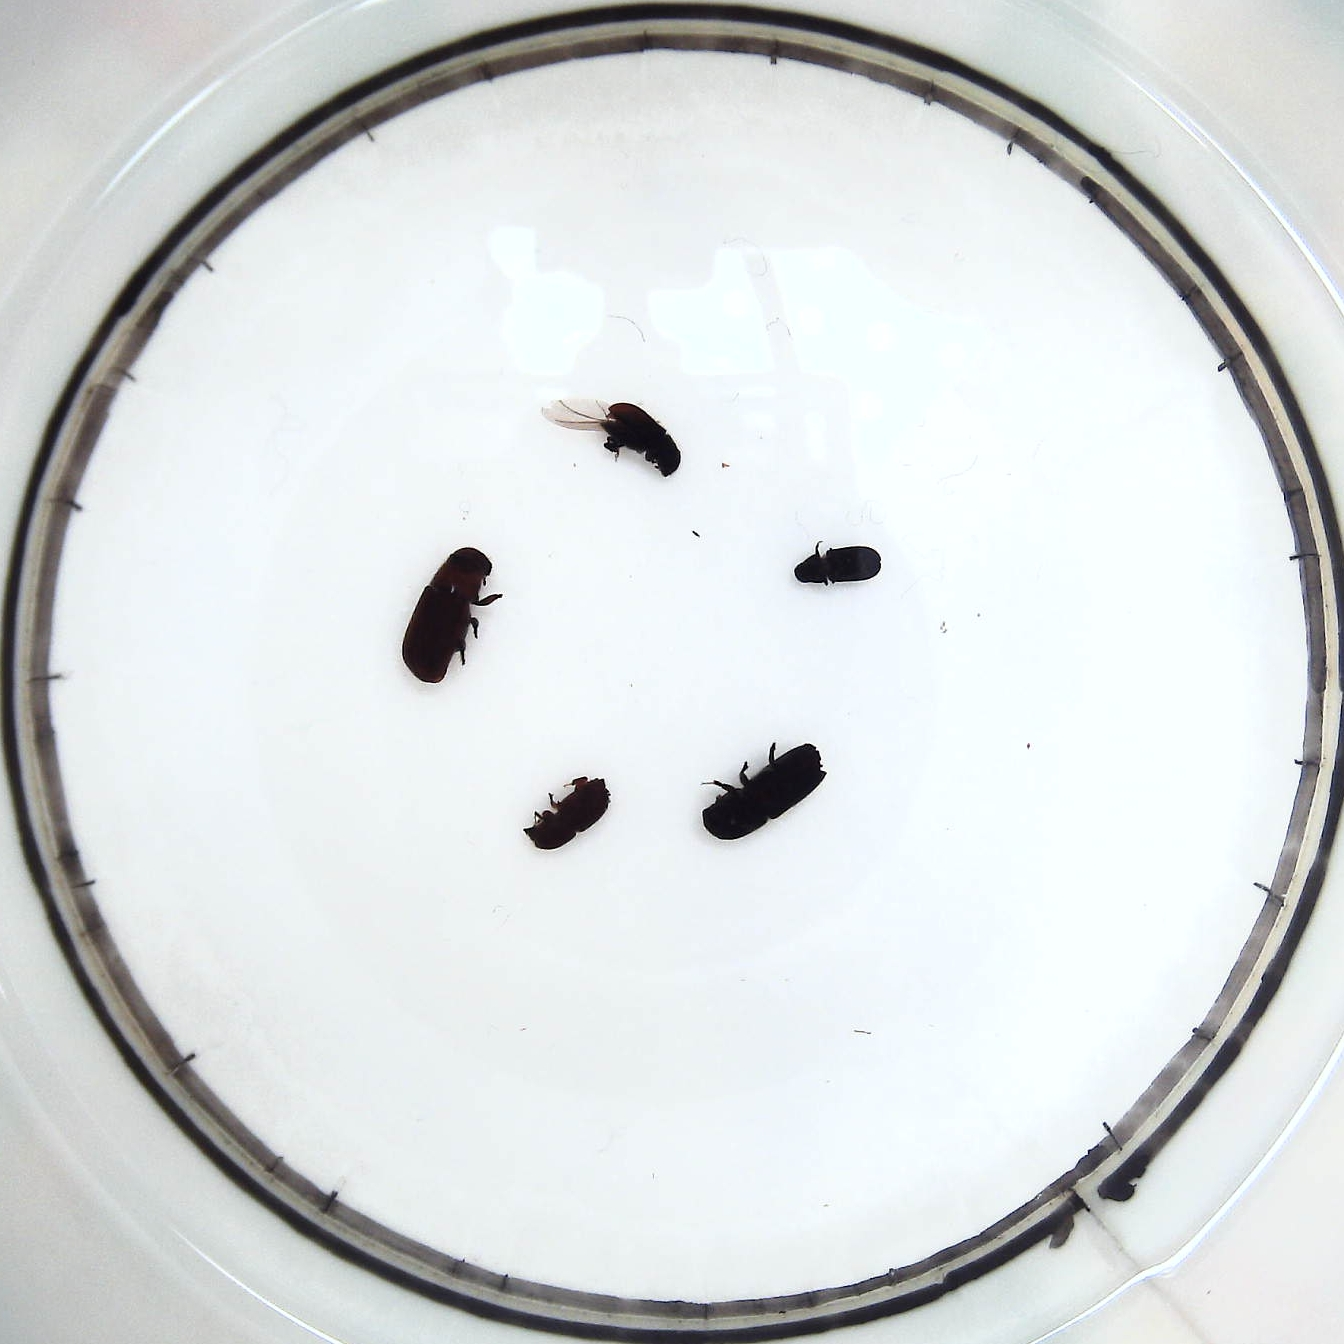Boerner: (692, 738, 830, 844)
Leconte: (399, 542, 502, 690)
armandi: (539, 391, 682, 478)
coleoptera: (790, 537, 885, 592)
linnaeus: (519, 773, 614, 857)
